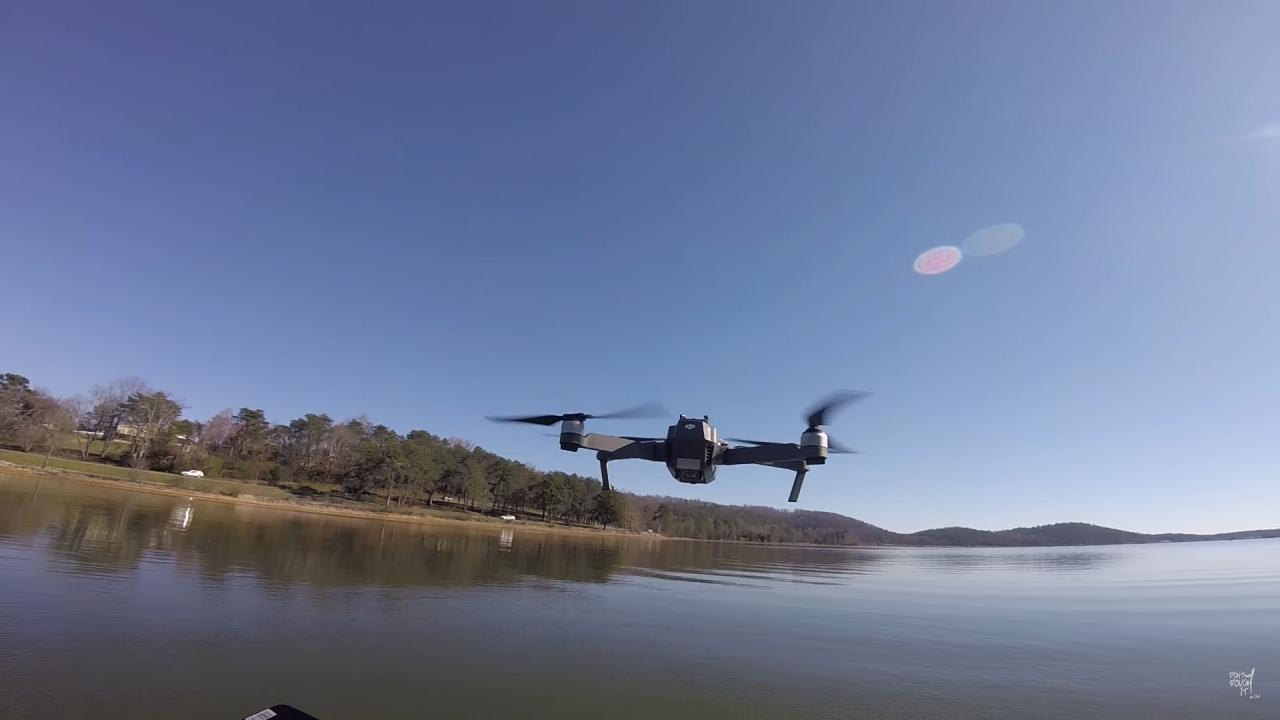Drone: (472, 374, 894, 510)
